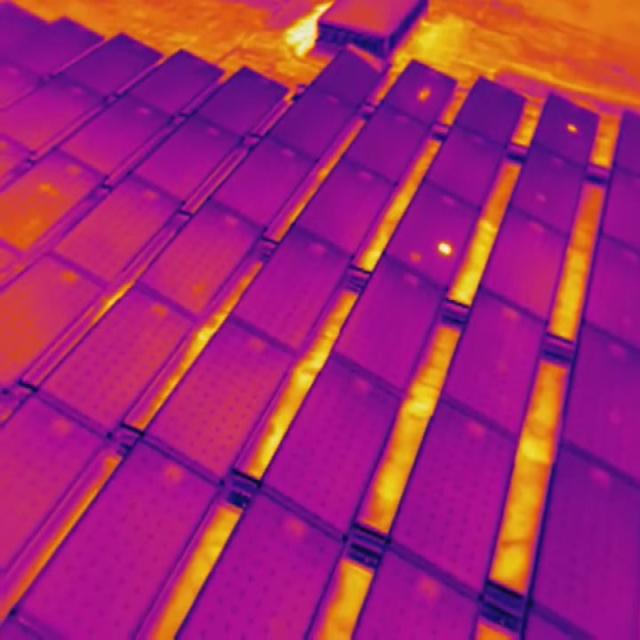Orange-Spots: (438, 240, 452, 256), (418, 86, 430, 101), (567, 123, 577, 135), (410, 252, 420, 262)
